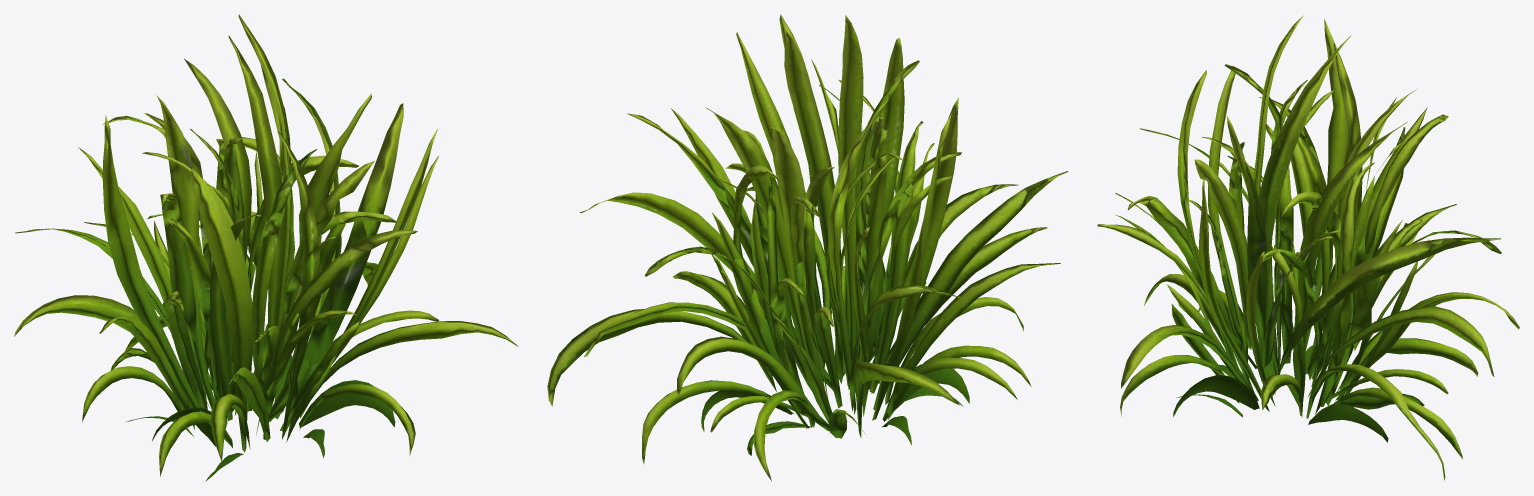
File: grass-tuft.glb
3 views of the same model, side by side, from view 1: azimuth 30°, elevation 25°; view 2: azimuth 150°, elevation 25°; view 3: azimuth 270°, elevation 25° (orthographic). The views are drawn at different scales.
Parts seen in each view (by area): view 1: tripo_node_3151e07b-8fec-46bc-96c1-ee4688212594; view 2: tripo_node_3151e07b-8fec-46bc-96c1-ee4688212594; view 3: tripo_node_3151e07b-8fec-46bc-96c1-ee4688212594.
Boxes of the visible parts, bbox=[...] form: tripo_node_3151e07b-8fec-46bc-96c1-ee4688212594: bbox=[14, 14, 518, 481]; tripo_node_3151e07b-8fec-46bc-96c1-ee4688212594: bbox=[547, 14, 1068, 481]; tripo_node_3151e07b-8fec-46bc-96c1-ee4688212594: bbox=[1097, 15, 1519, 481].
Bounding box in the file's own units: 0.998 × 0.998 × 0.9746.
1 material, 1 textured.
